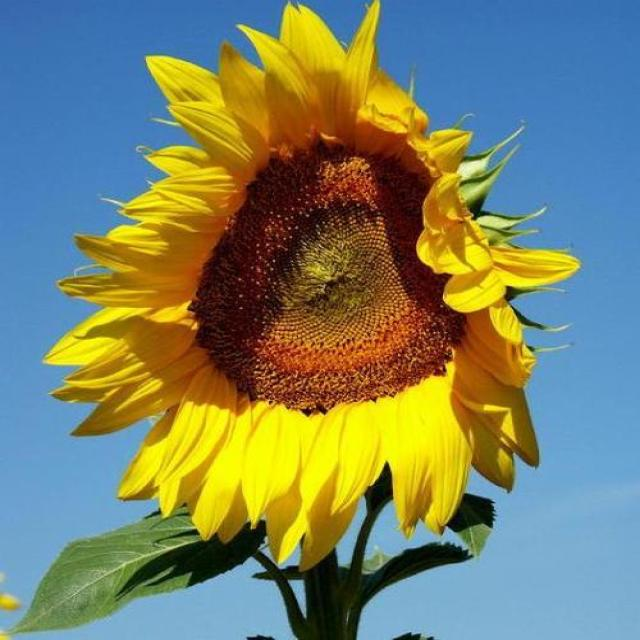sunflower: (43, 1, 588, 574)
